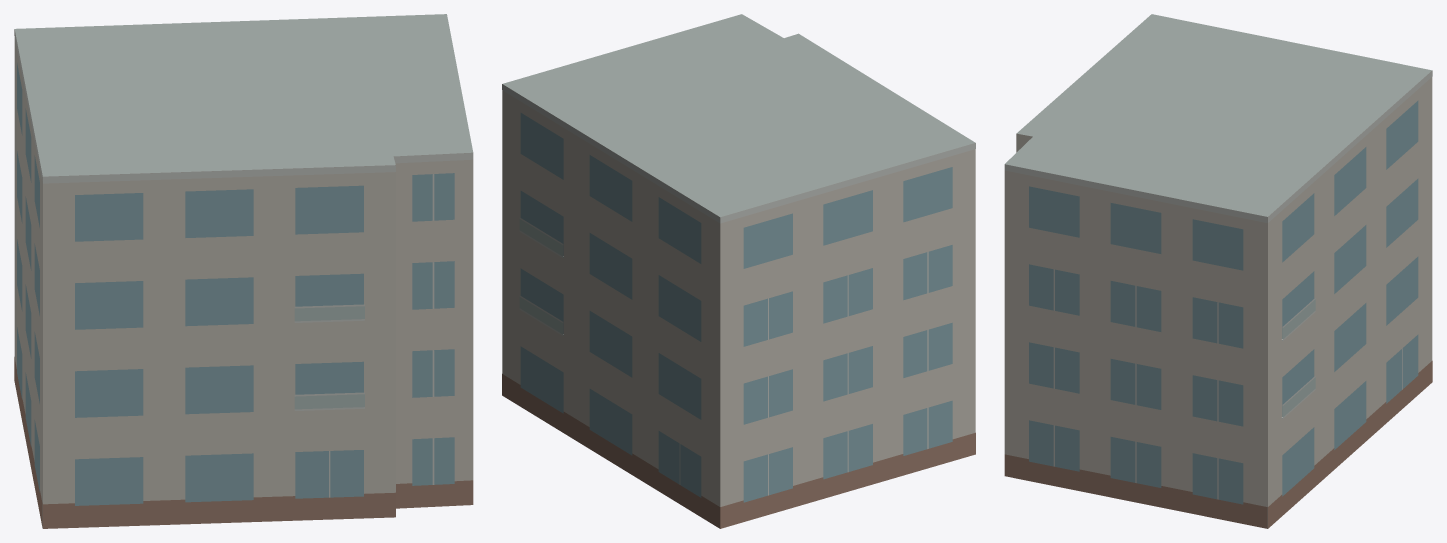
File: survey-upis-32476134.glb
3 views of the same model, side by side, from view 1: azimuth 30°, elevation 25°; view 2: azimuth 150°, elevation 25°; view 3: azimuth 270°, elevation 25° (orthographic). The views are drawn at different scales.
Parts seen in each view (by area): view 1: survey-upis-32476134.tmp; view 2: survey-upis-32476134.tmp; view 3: survey-upis-32476134.tmp.
Part boxes in pixels (x1,y1,x2,y2): survey-upis-32476134.tmp: (14, 14, 473, 528); survey-upis-32476134.tmp: (502, 14, 975, 528); survey-upis-32476134.tmp: (1004, 14, 1432, 528).
Bounding box in the file's own units: 17.04 × 12.2 × 15.18.
